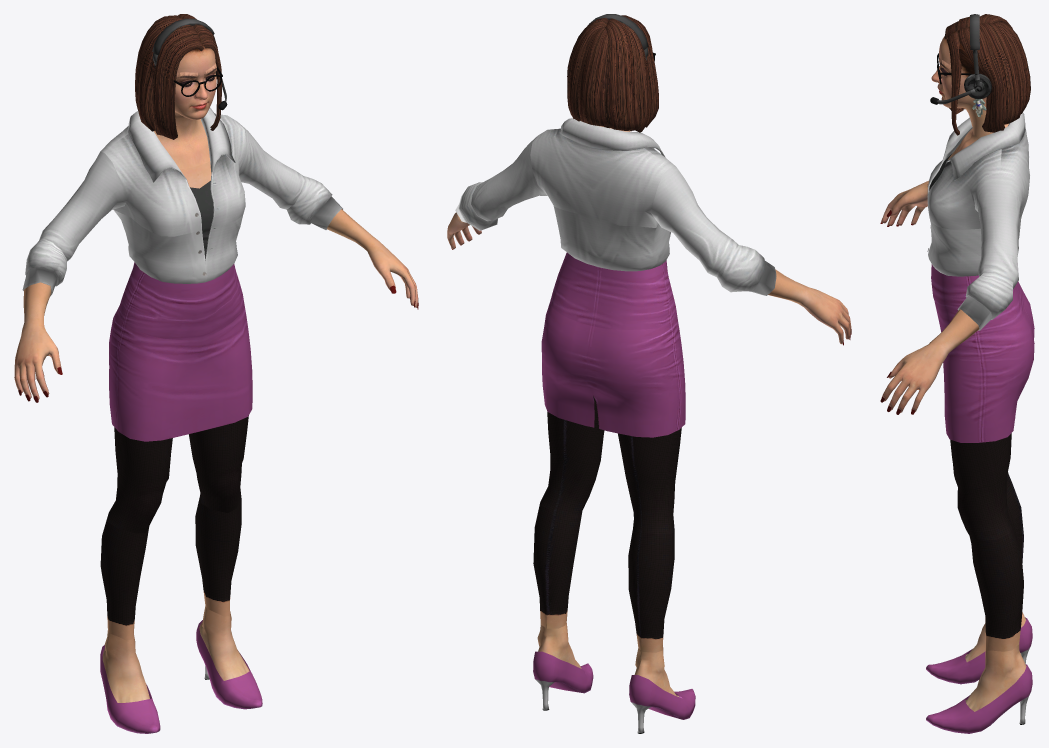
The model's file is Ghostbusters The Videogame - Janine Melnitz No Bones.fbx.
3 views of the same model, side by side, from view 1: azimuth 30°, elevation 25°; view 2: azimuth 150°, elevation 25°; view 3: azimuth 270°, elevation 25° (orthographic).
Parts seen in each view (by area): view 1: Submesh04, Submesh14, Submesh15, Submesh21, Submesh13, Submesh07, Submesh11, Submesh20, Submesh12, Submesh05, Submesh08, Submesh02 (+5 smaller); view 2: Submesh04, Submesh14, Submesh21, Submesh15, Submesh13, Submesh11, Submesh12, Submesh09, Submesh10, Submesh02, Submesh07, Submesh05 (+3 smaller); view 3: Submesh04, Submesh14, Submesh21, Submesh08, Submesh12, Submesh10, Submesh06, Submesh03, Submesh15, Submesh13, Submesh05, Submesh20 (+3 smaller).
Part boxes in pixels (bbox=[...]): Submesh04: bbox=[109, 304, 252, 441]; Submesh14: bbox=[100, 107, 246, 236]; Submesh15: bbox=[117, 262, 244, 340]; Submesh21: bbox=[135, 14, 222, 139]; Submesh13: bbox=[114, 210, 242, 283]; Submesh07: bbox=[14, 239, 66, 402]; Submesh11: bbox=[107, 427, 172, 533]; Submesh20: bbox=[153, 26, 222, 169]; Submesh12: bbox=[189, 415, 248, 512]; Submesh05: bbox=[100, 630, 160, 733]; Submesh08: bbox=[287, 176, 418, 309]; Submesh02: bbox=[39, 151, 127, 261]; Submesh04: bbox=[541, 303, 685, 437]; Submesh14: bbox=[530, 118, 675, 227]; Submesh21: bbox=[567, 15, 658, 132]; Submesh15: bbox=[550, 252, 677, 330]; Submesh13: bbox=[553, 206, 670, 271]; Submesh11: bbox=[618, 427, 681, 534]; Submesh12: bbox=[540, 396, 604, 513]; Submesh09: bbox=[628, 529, 674, 652]; Submesh10: bbox=[533, 503, 582, 628]; Submesh02: bbox=[650, 167, 738, 277]; Submesh07: bbox=[717, 245, 851, 345]; Submesh05: bbox=[629, 646, 695, 733]; Submesh04: bbox=[939, 292, 1034, 442]; Submesh14: bbox=[927, 112, 1029, 229]; Submesh21: bbox=[944, 14, 1030, 135]; Submesh08: bbox=[880, 272, 1012, 414]; Submesh12: bbox=[950, 433, 1012, 540]; Submesh10: bbox=[969, 527, 1023, 651]; Submesh06: bbox=[926, 644, 1032, 733]; Submesh03: bbox=[974, 175, 1021, 289]; Submesh15: bbox=[931, 264, 1024, 333]; Submesh13: bbox=[927, 215, 1021, 276]; Submesh05: bbox=[926, 612, 1032, 684]; Submesh20: bbox=[931, 26, 1008, 153].
Size of the model in its own units: 138 by 229 by 46.73.
